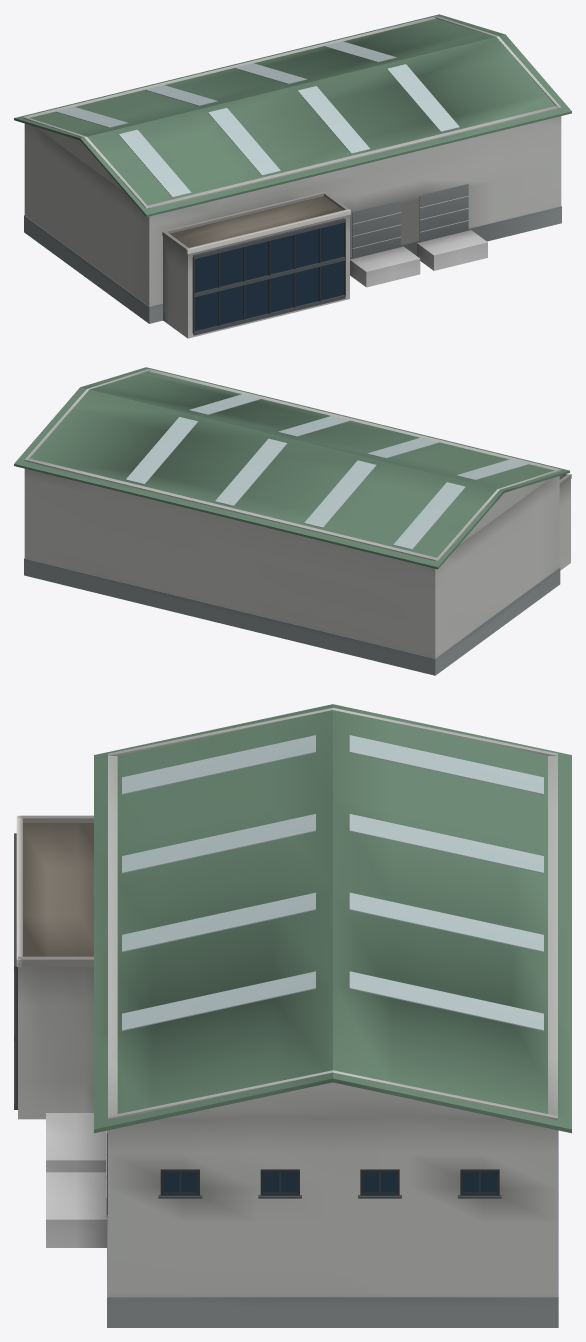
The model's file is galpon-grande-LY3IXQy2.glb.
3 views of the same model, one above another, from view 1: azimuth 30°, elevation 25°; view 2: azimuth 150°, elevation 25°; view 3: azimuth 270°, elevation 25° (orthographic). The views are drawn at different scales.
Parts seen in each view (by area): view 1: pieza, losa, losa.001, pieza.008, pieza.001, pieza.002, pieza.003, porton.005, porton, pieza.019, pieza.020, losa.002 (+14 smaller); view 2: pieza, losa.001, losa, pieza.001, losa.007, losa.009, losa.005, losa.003, mojinete, pieza.002, losa.006, losa.002 (+3 smaller); view 3: pieza, losa, losa.001, pieza.001, pieza.002, pieza.003, mojinete.001, pieza.020, losa.003, losa.007, losa.009, losa.005 (+8 smaller).
Part boxes in pixels (left/top/right/bottom): pieza: left=24, top=16, right=561, bottom=306; losa: left=80, top=34, right=571, bottom=217; losa.001: left=14, top=14, right=505, bottom=140; pieza.008: left=195, top=223, right=343, bottom=330; pieza.001: left=24, top=206, right=561, bottom=323; pieza.002: left=163, top=214, right=349, bottom=338; pieza.003: left=170, top=196, right=342, bottom=247; porton.005: left=419, top=184, right=468, bottom=242; porton: left=352, top=200, right=400, bottom=258; pieza.019: left=350, top=246, right=420, bottom=287; pieza.020: left=417, top=230, right=487, bottom=270; losa.002: left=118, top=129, right=191, bottom=197; pieza: left=24, top=369, right=559, bottom=658; losa.001: left=14, top=387, right=503, bottom=569; losa: left=80, top=367, right=569, bottom=492; pieza.001: left=24, top=558, right=560, bottom=675; losa.007: left=215, top=438, right=287, bottom=506; losa.009: left=125, top=417, right=198, bottom=484; losa.005: left=304, top=460, right=376, bottom=527; losa.003: left=393, top=482, right=465, bottom=549; mojinete: left=435, top=469, right=561, bottom=560; pieza.002: left=559, top=479, right=570, bottom=570; losa.006: left=278, top=416, right=350, bottom=436; losa.002: left=456, top=459, right=528, bottom=480; pieza: left=108, top=756, right=557, bottom=1296; losa: left=94, top=704, right=332, bottom=1133; losa.001: left=333, top=704, right=571, bottom=1133; pieza.001: left=107, top=1130, right=558, bottom=1327; pieza.002: left=18, top=967, right=93, bottom=1119; pieza.003: left=23, top=823, right=93, bottom=956; mojinete.001: left=108, top=1070, right=557, bottom=1118; pieza.020: left=46, top=1172, right=106, bottom=1247; losa.003: left=349, top=735, right=543, bottom=794; losa.007: left=349, top=892, right=543, bottom=952; losa.009: left=349, top=971, right=543, bottom=1031; losa.005: left=349, top=814, right=543, bottom=873.
Size of the model in its own units: 31.5 by 10 by 19.84.
